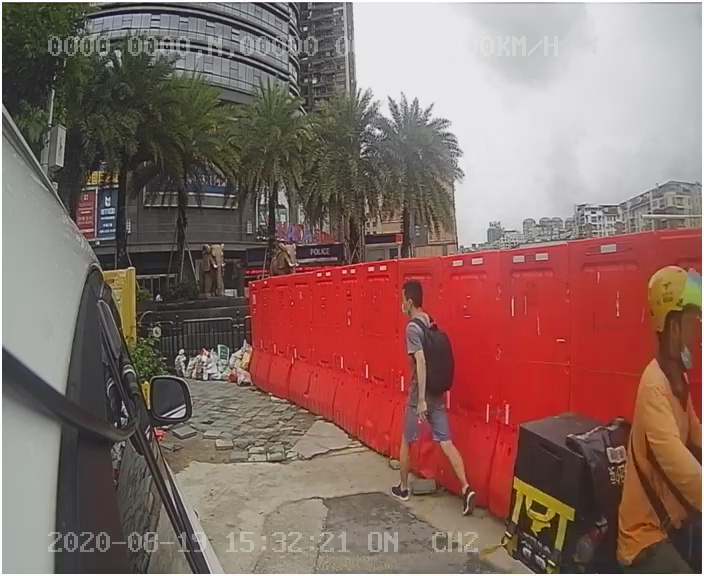person: (379, 278, 493, 516)
